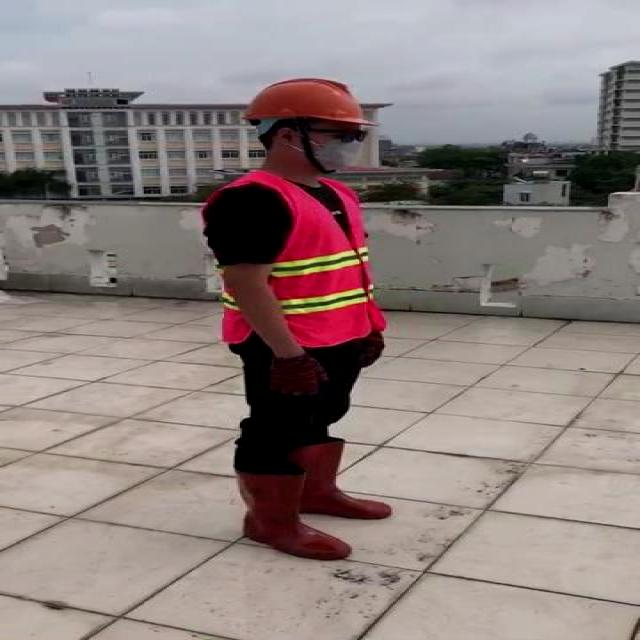boots: (236, 473, 348, 560), (288, 440, 395, 517)
face_mask: (303, 122, 374, 174)
glasses: (327, 122, 372, 150)
hand_glove: (266, 353, 331, 398)
head_helmet: (240, 76, 377, 126)
person: (198, 68, 404, 566)
vest: (210, 172, 384, 347)
